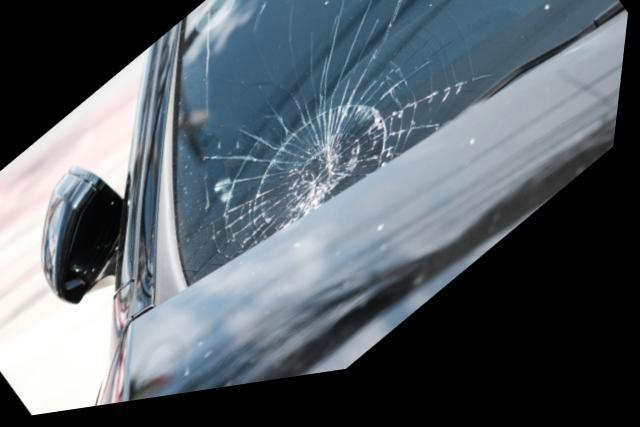glass shatter: (182, 0, 621, 290)
